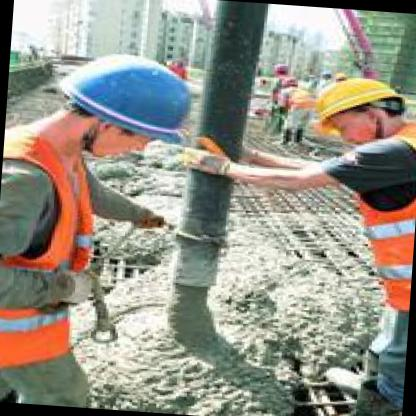helmet: (38, 36, 212, 164), (307, 67, 416, 148)
